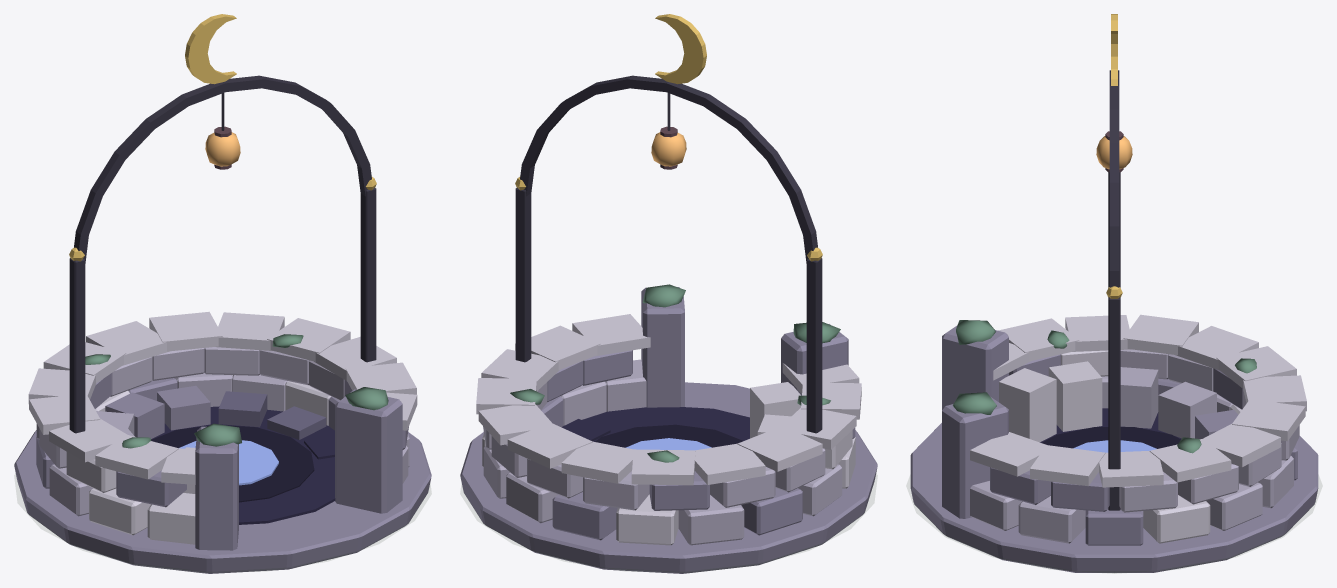
Rendered from moonwell.glb.
3 renders of one model, left to right at view 1: azimuth 30°, elevation 25°; view 2: azimuth 150°, elevation 25°; view 3: azimuth 270°, elevation 25°, orthographic.
Visible parts, largest first — view 1: moonwell; view 2: moonwell; view 3: moonwell.
Boxes of the visible parts, x1,y1,x2,y2 form: moonwell: [14, 14, 431, 573]; moonwell: [460, 14, 877, 573]; moonwell: [910, 14, 1318, 573].
Bounding box in the file's own units: 3 × 3.73 × 3.
